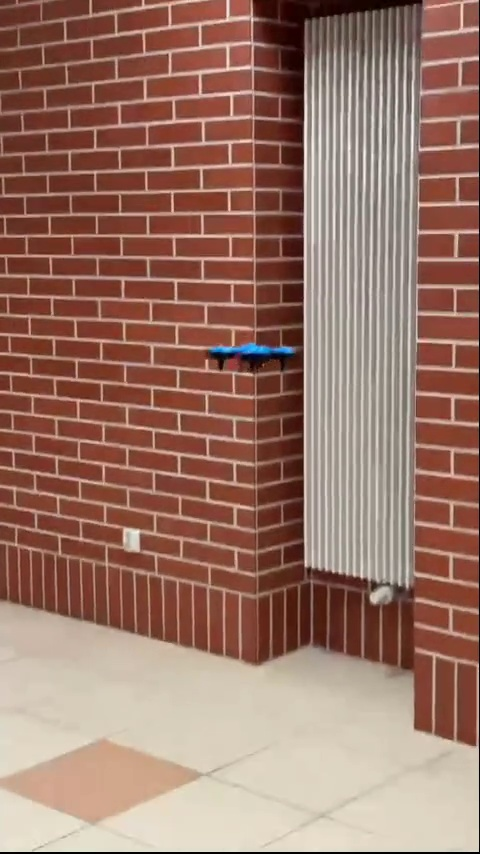drone: (205, 336, 299, 374)
